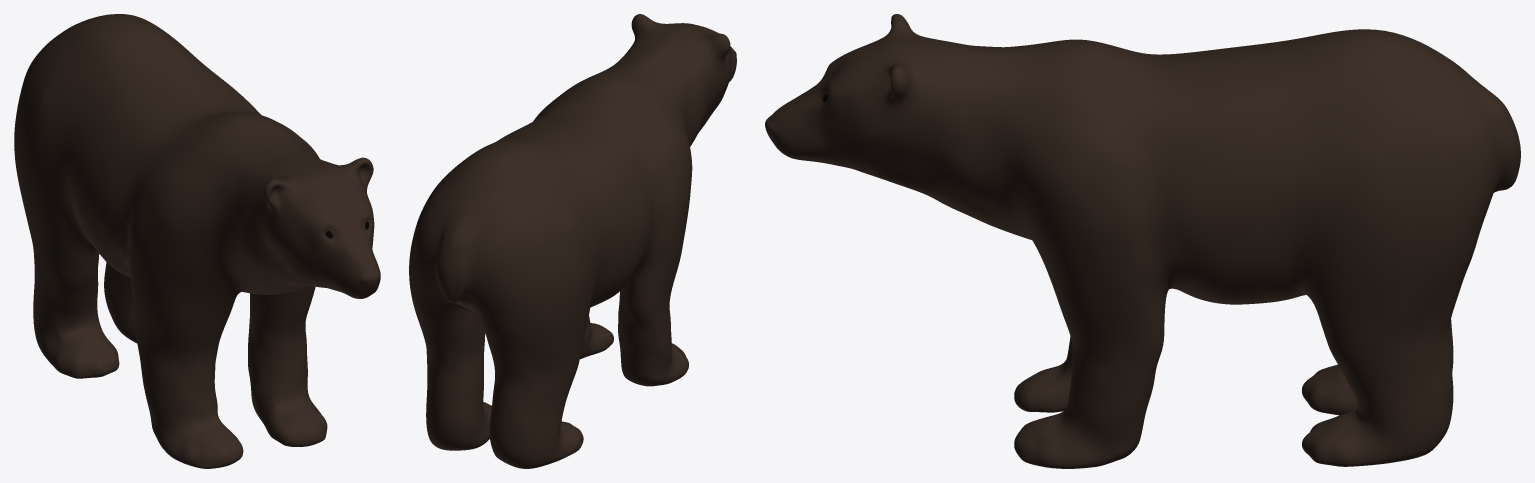
The model's file is BearGOVNO.fbx.
3 views of the same model, side by side, from view 1: azimuth 30°, elevation 25°; view 2: azimuth 150°, elevation 25°; view 3: azimuth 270°, elevation 25° (orthographic). The views are drawn at different scales.
Parts seen in each view (by area): view 1: Bear; view 2: Bear; view 3: Bear.
Part boxes in pixels (x1,y1,x2,y2): Bear: [14, 14, 380, 468]; Bear: [409, 14, 736, 468]; Bear: [765, 14, 1520, 468].
Bounding box in the file's own units: 193 × 336 × 584.
